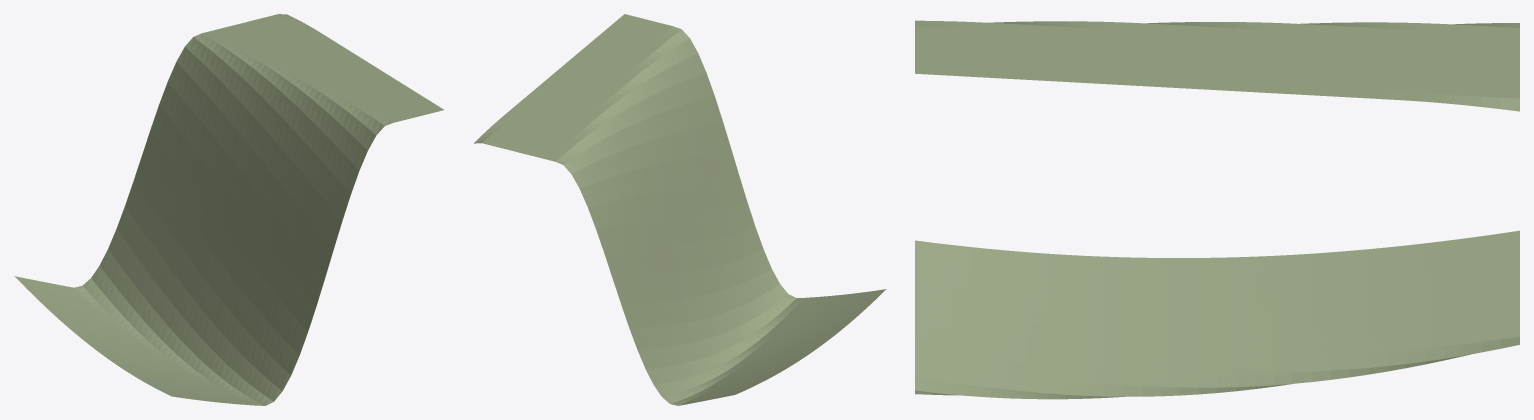
Rendered from alpine-11-4.glb.
3 renders of one model, left to right at view 1: azimuth 30°, elevation 25°; view 2: azimuth 150°, elevation 25°; view 3: azimuth 270°, elevation 25°, orthographic. The views are drawn at different scales.
Parts seen in each view (by area): view 1: alpine-11-4; view 2: alpine-11-4; view 3: alpine-11-4.
Part boxes in pixels (<box>): alpine-11-4: <box>14,14,443,405</box>; alpine-11-4: <box>474,14,886,405</box>; alpine-11-4: <box>915,20,1519,399</box>.
Size of the model in its own units: 256 by 233 by 256.
